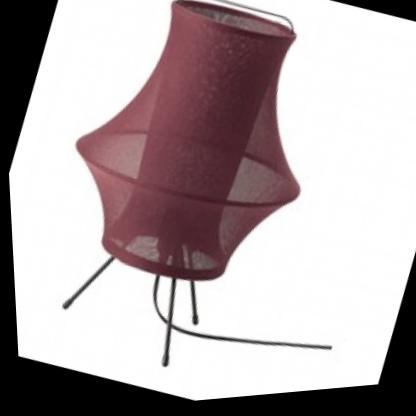Lamp: (0, 0, 399, 416)
